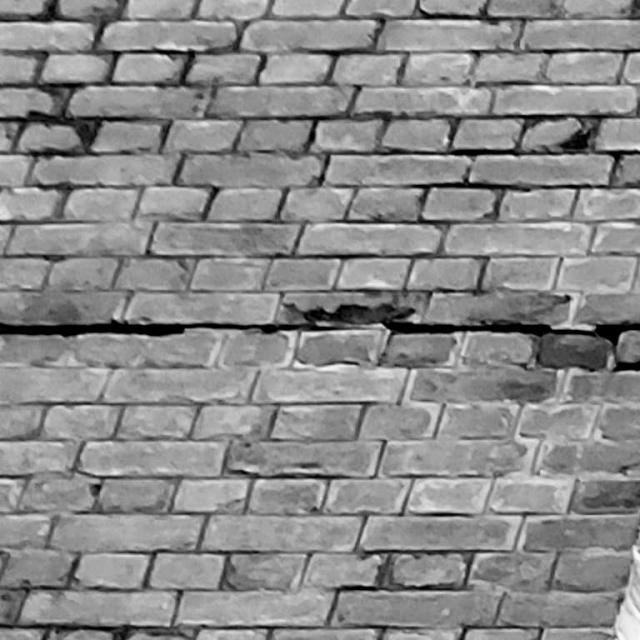crack: (1, 318, 640, 372)
